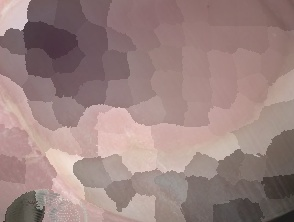Nail_psoriasis: (0, 14, 294, 222)
